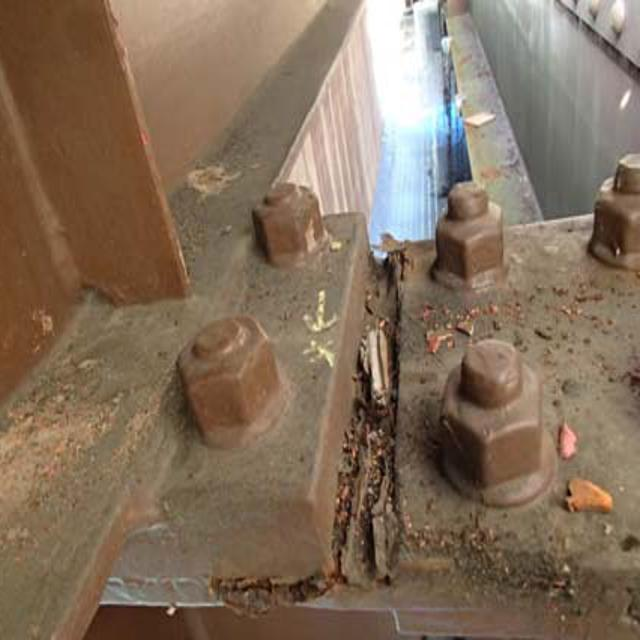corrosion: (180, 173, 603, 630)
